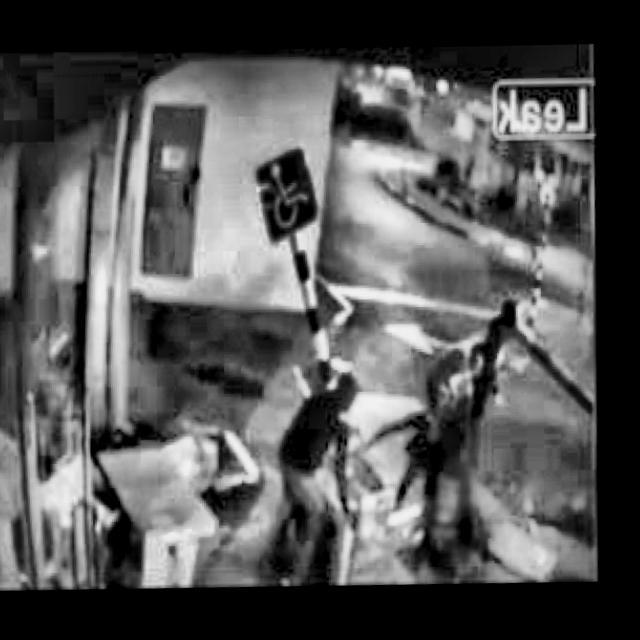Weapon: (286, 338, 552, 582)
